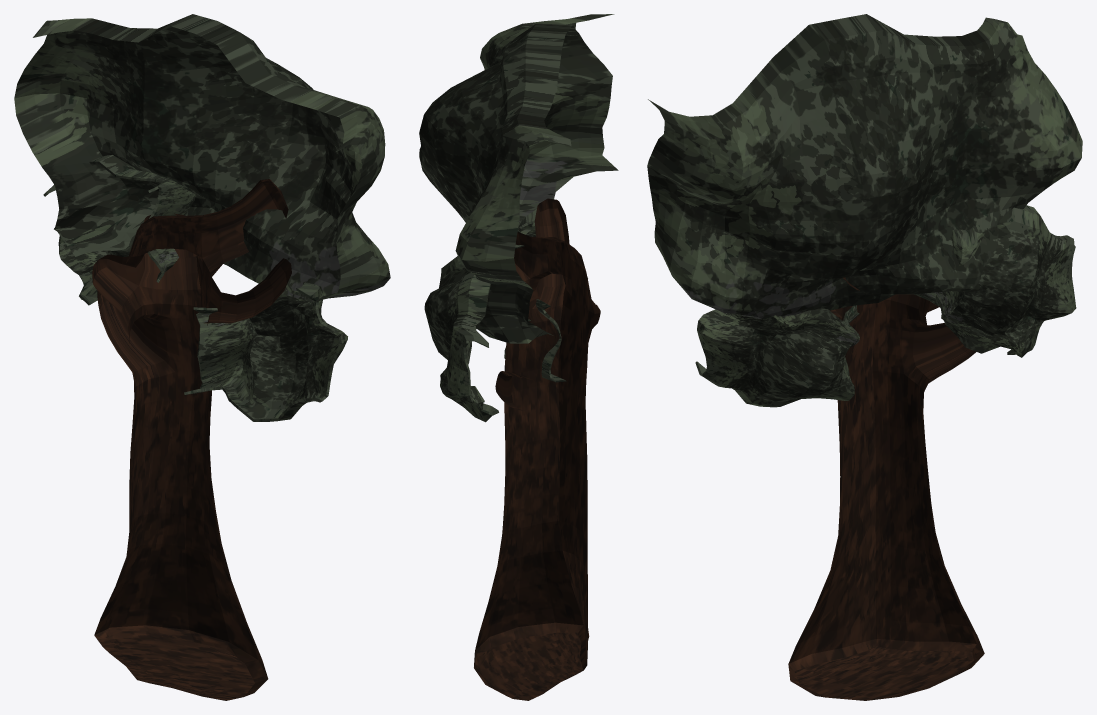
File: arvore g.fbx
The picture shows the model from 3 angles, left to right: view 1: azimuth 30°, elevation 25°; view 2: azimuth 150°, elevation 25°; view 3: azimuth 270°, elevation 25°; orthographic projection. The views are drawn at different scales.
Parts seen in each view (by area): view 1: Plane.003, Cube, Plane.002, Plane.004; view 2: Cube, Plane.003, Plane.004, Plane.002; view 3: Plane.003, Cube, Plane.004, Plane.002.
Part boxes in pixels (x1,y1,x2,y2): Plane.003: (14, 14, 390, 303); Cube: (92, 179, 291, 700); Plane.002: (184, 282, 347, 421); Plane.004: (43, 155, 195, 305); Cube: (474, 198, 600, 700); Plane.003: (419, 14, 618, 343); Plane.004: (424, 244, 530, 422); Plane.002: (504, 209, 587, 382); Plane.003: (647, 14, 1082, 319); Cube: (788, 277, 984, 700); Plane.004: (914, 205, 1076, 357); Plane.002: (695, 305, 859, 407).
Bounding box in the file's own units: 97.08 × 268 × 162.
3 materials, 3 textured.
